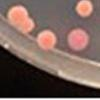pink: (65, 26, 92, 53), (35, 26, 58, 54), (6, 4, 29, 27), (72, 0, 97, 19), (18, 17, 37, 35)
